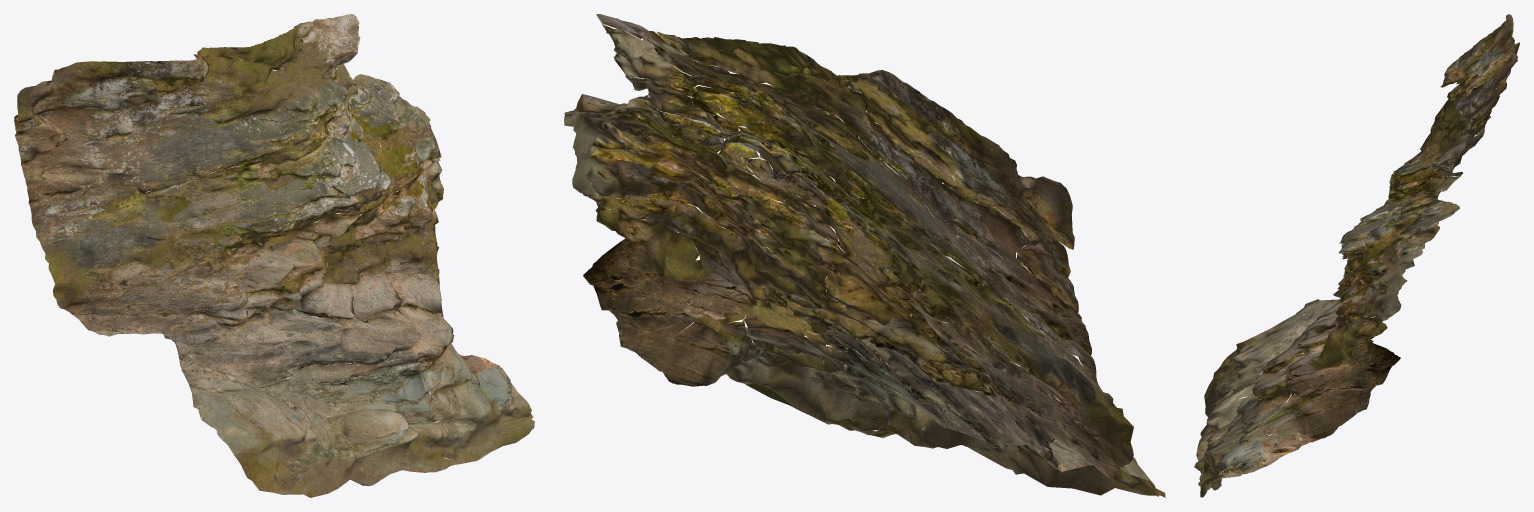
The model's file is rock_face_02.glb.
3 renders of one model, left to right at view 1: azimuth 30°, elevation 25°; view 2: azimuth 150°, elevation 25°; view 3: azimuth 270°, elevation 25°, orthographic. The views are drawn at different scales.
Parts seen in each view (by area): view 1: rock_face_02; view 2: rock_face_02; view 3: rock_face_02.
Part boxes in pixels (x1,y1,x2,y2): rock_face_02: [14, 14, 534, 497]; rock_face_02: [564, 14, 1165, 497]; rock_face_02: [1194, 14, 1519, 497].
Size of the model in its own units: 2.71 by 2.48 by 2.13.
1 material, 1 textured.
